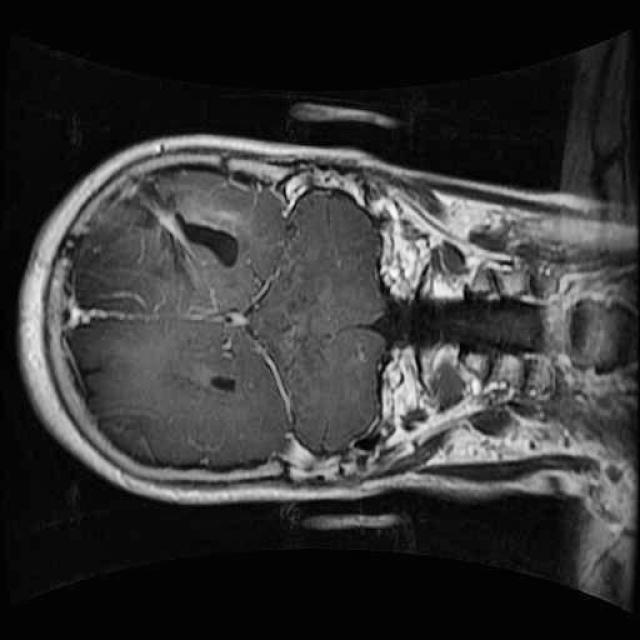Non-Tumor: (49, 164, 213, 331)
